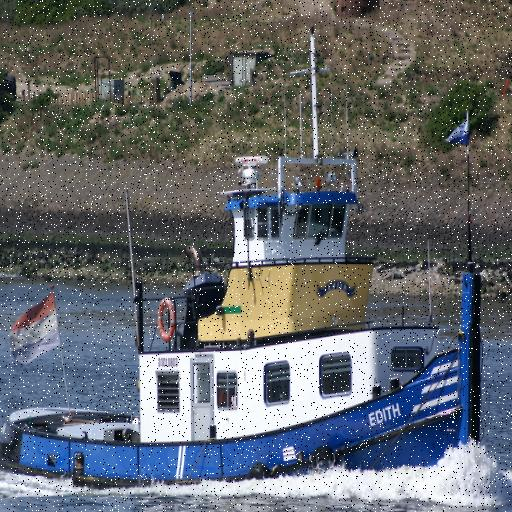tugboat: (1, 149, 488, 506)
